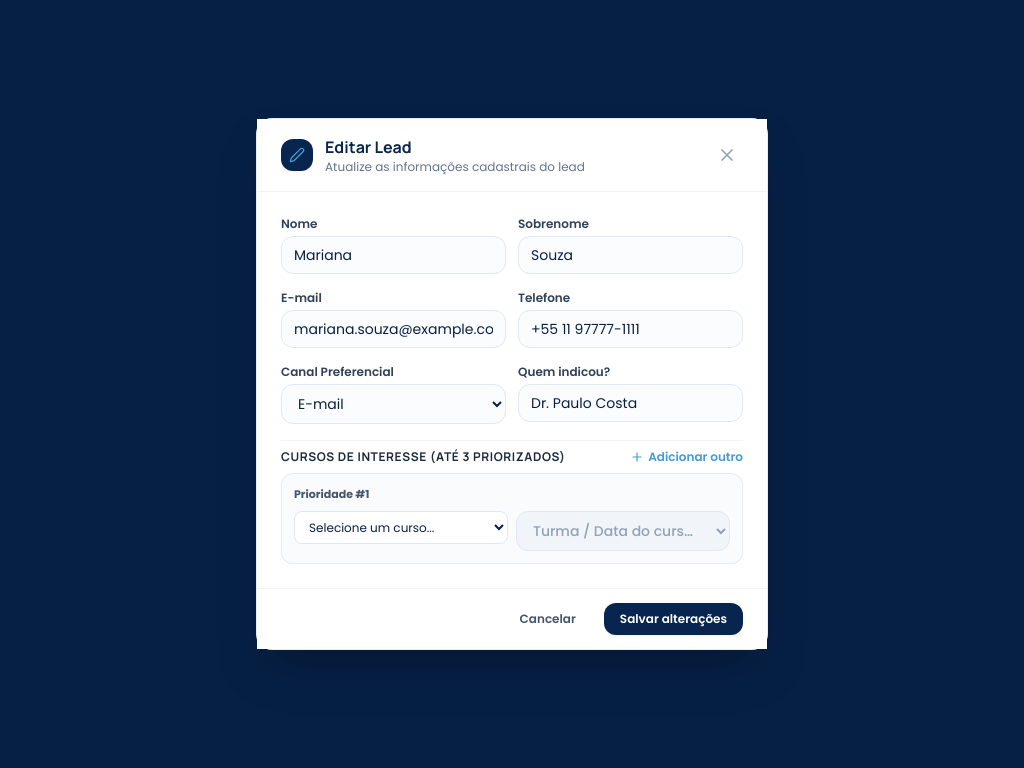
Test: PART B: Edit Lead in Complete Lead Profile › 13. preserves canonical rule of up to 3 prioritized course interests
expect the text "Cursos de Interesse (Até 3 priorizados)" is shown: met, box [281,449,565,465]
# Click "Adicionar outro" twice to reach 3
Click the button "Adicionar outro".
click(687, 457)  # box [630,449,743,465]
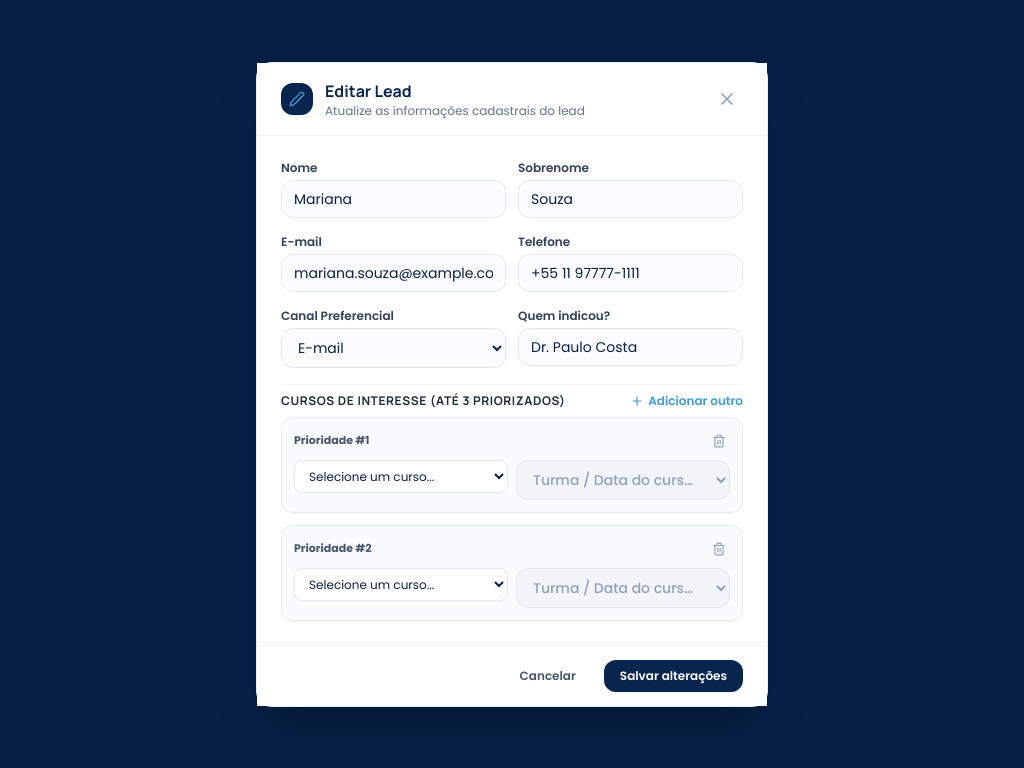
expect the text "Prioridade #2" is shown: met, box [294,540,372,557]
Click the button "Adicionar outro".
click(687, 400)  # box [630,392,743,408]
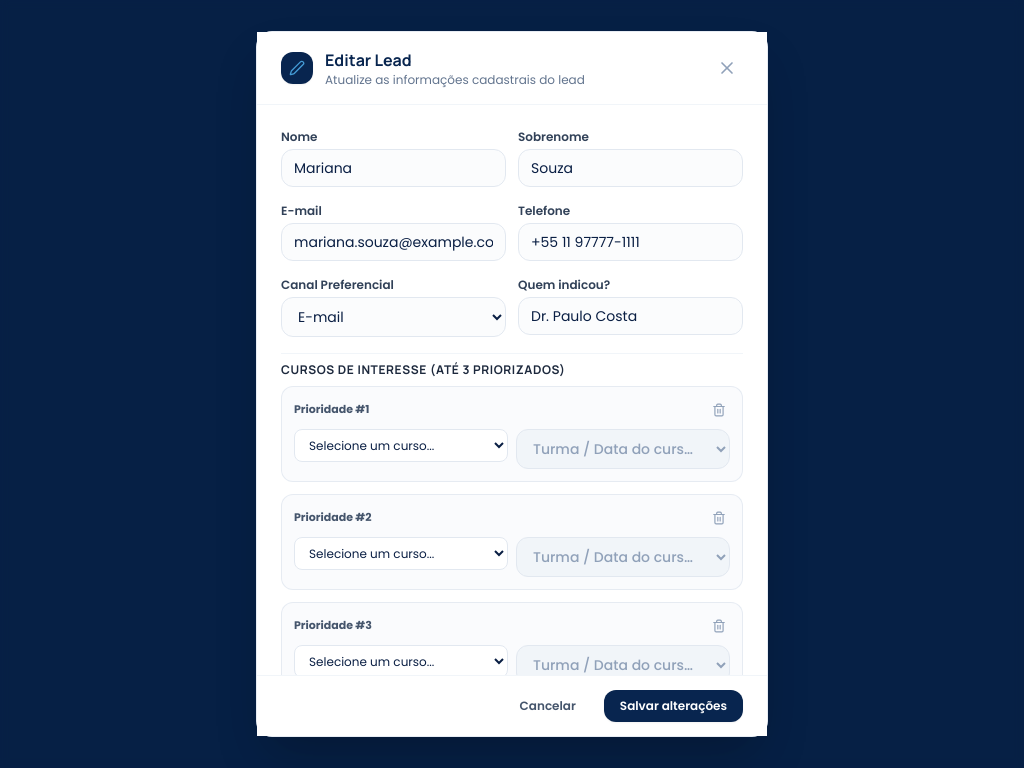
expect the text "Prioridade #3" is shown: met, box [294,618,372,634]
expect the button "Adicionar outro" is gone: met
